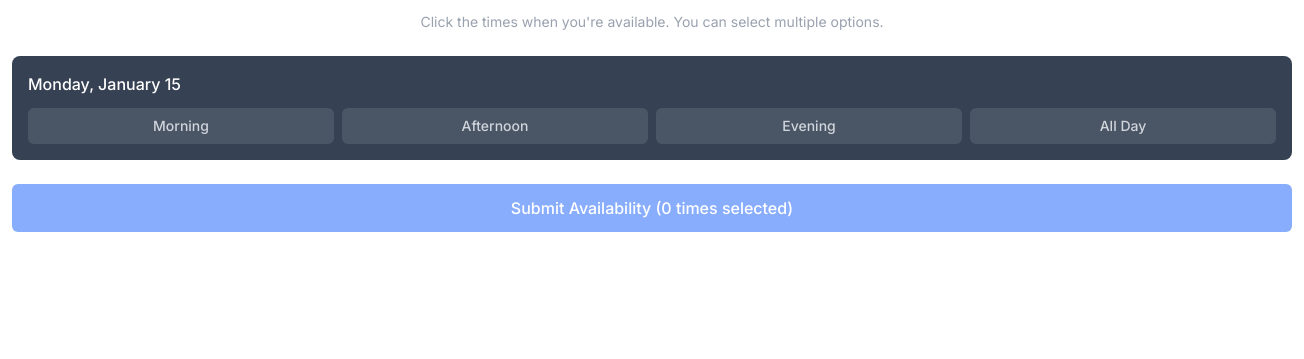
Test case: AvailabilityForm › should show loading spinner during form submission
The image size is (1304, 359).
// Select a time slot
Click the button "Morning" at (181, 126), box [28, 108, 334, 144]
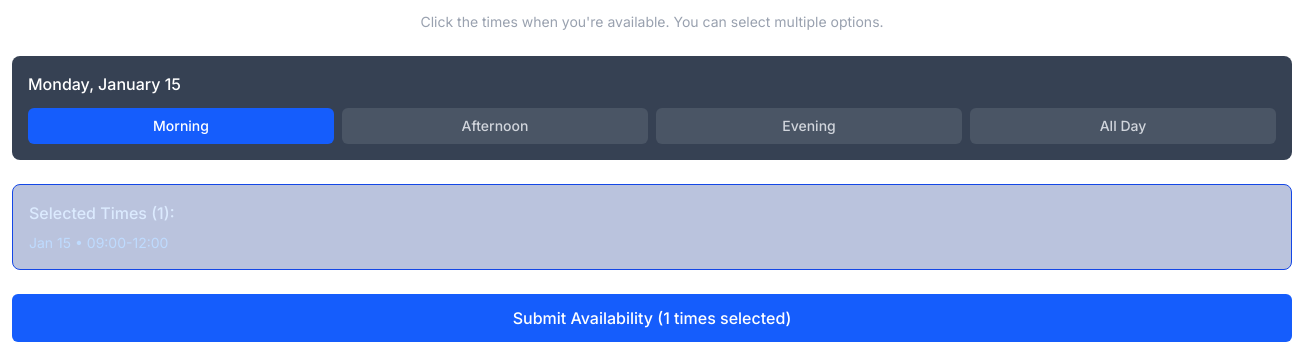
// Click submit button
Click the button "Submit Availability (1 times selected)" at (652, 318), box [12, 294, 1292, 342]
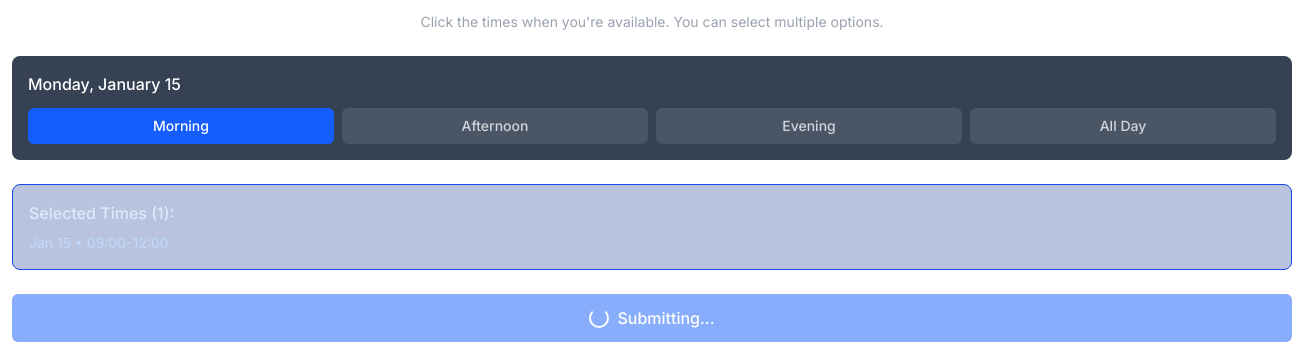
Check: the button "Submitting..." is disabled, box [12, 294, 1292, 342]
